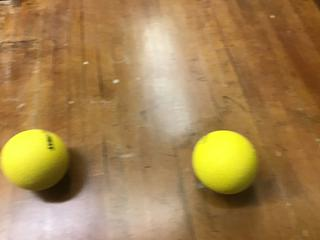power_cell: (191, 125, 260, 198), (2, 126, 68, 197)
